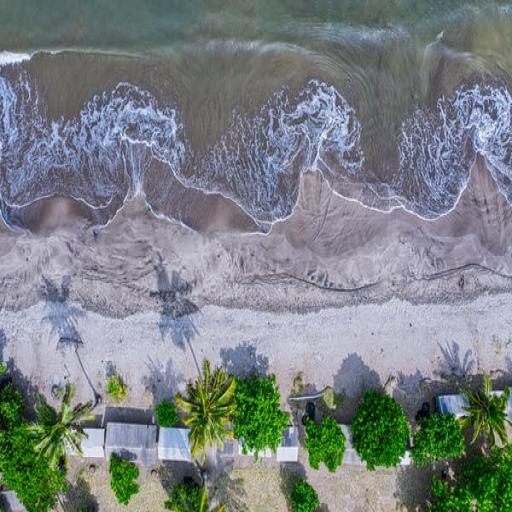tree-top: (350, 387, 414, 476), (181, 361, 240, 451), (0, 427, 61, 512), (234, 375, 283, 463), (38, 386, 86, 458), (417, 403, 466, 468), (302, 410, 352, 473), (468, 377, 512, 443), (155, 469, 221, 512), (472, 454, 512, 512), (423, 470, 472, 512), (110, 448, 140, 508), (290, 473, 320, 512), (0, 380, 22, 422), (160, 390, 180, 431), (106, 374, 126, 408)
